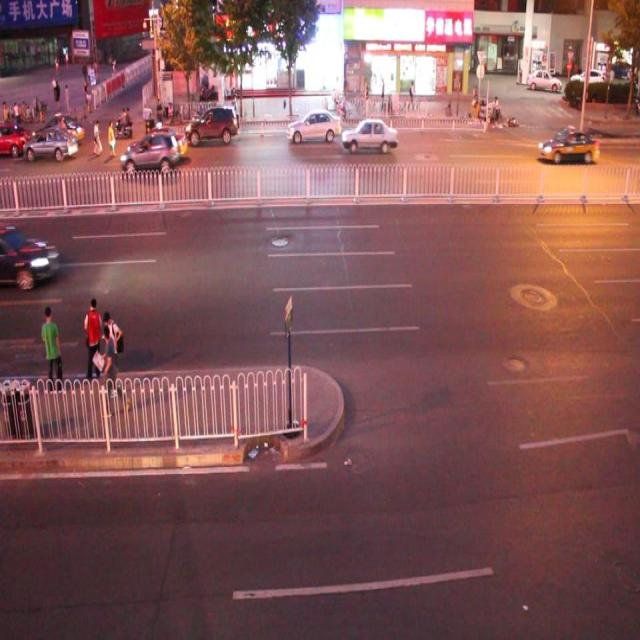car: (1, 227, 58, 287), (119, 130, 179, 174), (538, 122, 598, 166), (340, 115, 397, 154), (185, 105, 239, 144), (286, 109, 341, 145), (24, 126, 79, 161), (129, 125, 187, 158), (39, 112, 85, 148), (1, 120, 30, 156)
